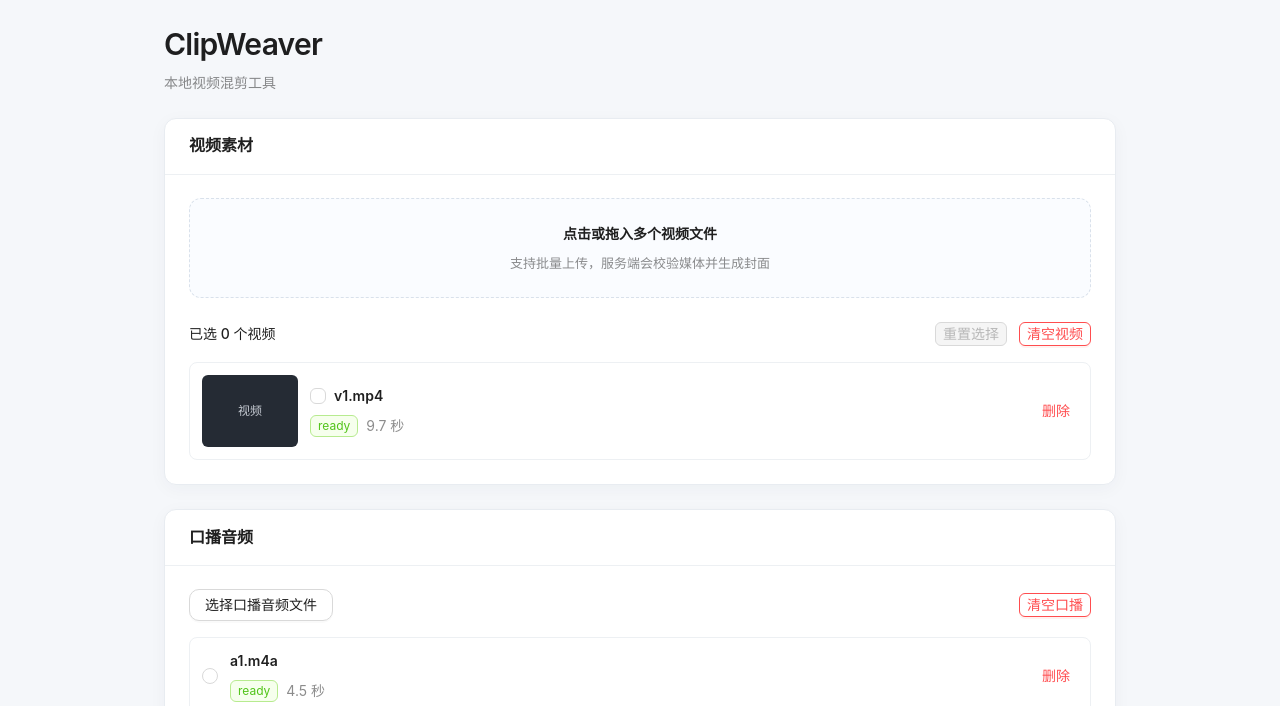
Test: deleting a selected video clears stale mix result and error
The image size is (1280, 706).
Click the checkbox named "选择视频 v1.mp4".
click(318, 396)  # box [310,385,326,407]
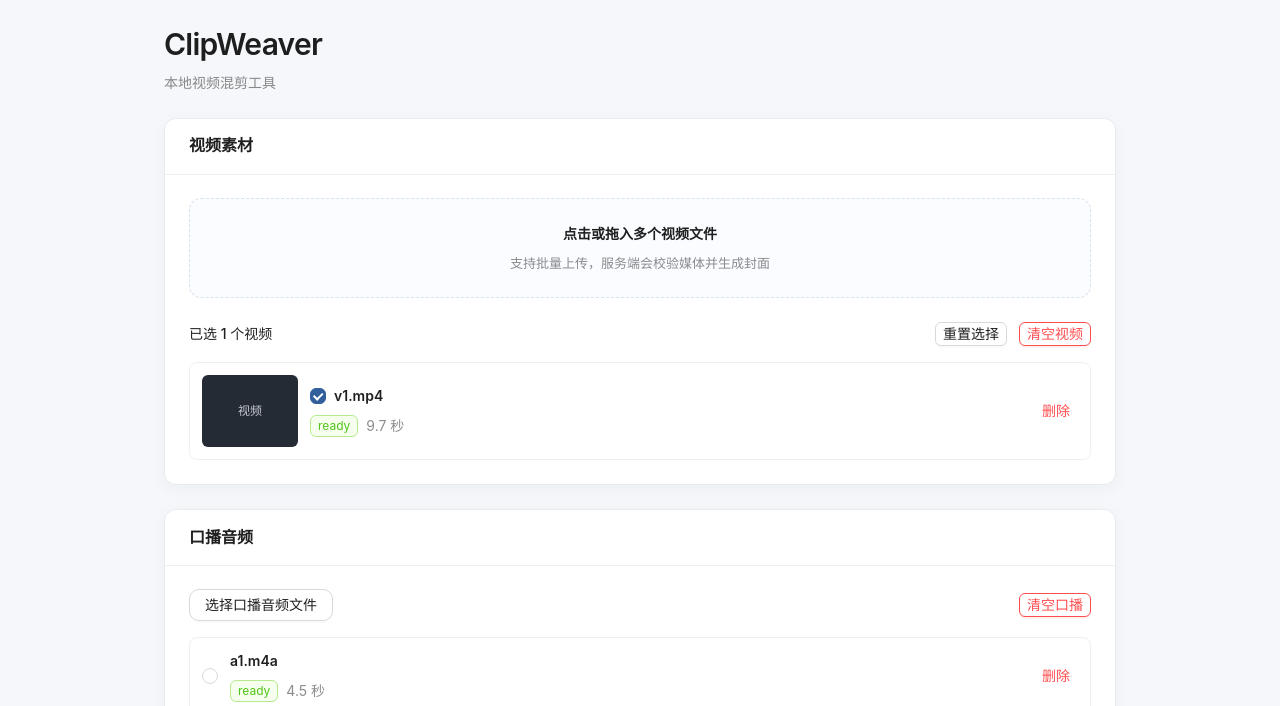
Click the radio button named "选择口播 a1.m4a".
click(210, 676)  # box [202,665,218,687]
(page scrolled)
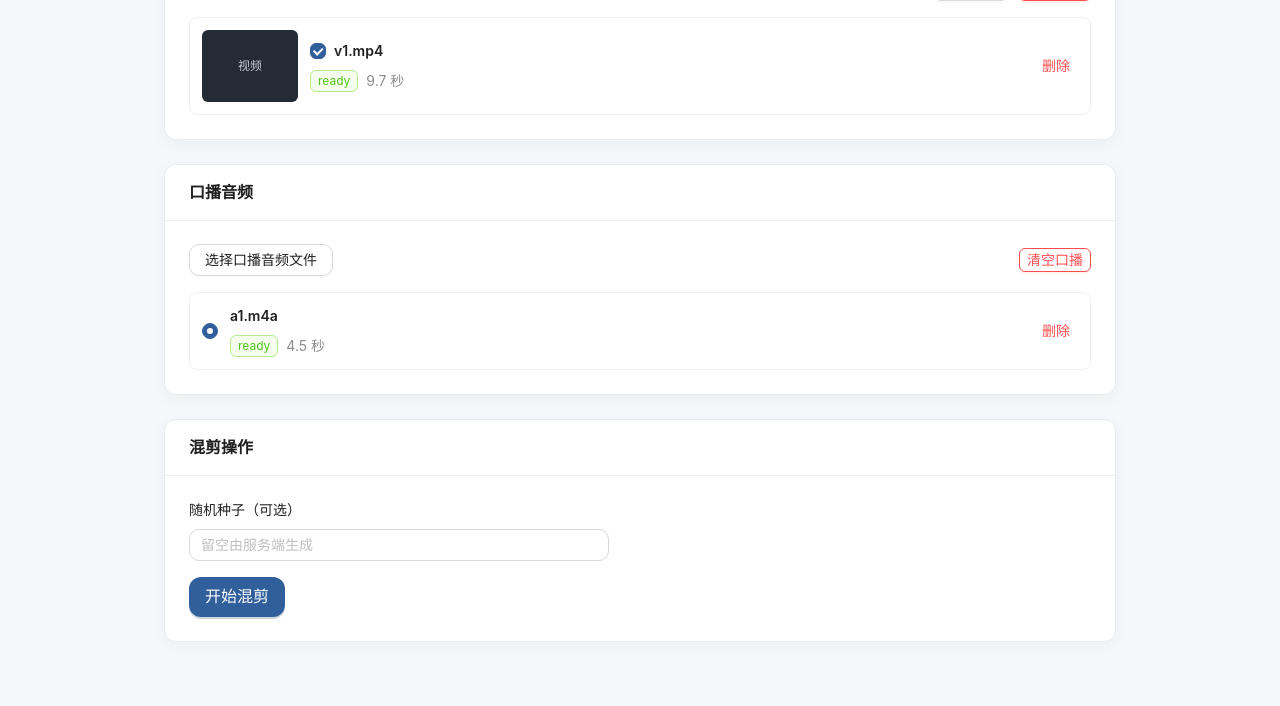
Expected: the button with aria-label "删除视频 v1.mp4" is shown, [1034,54,1078,78]
Click the button "开始混剪".
click(237, 597)  # box [189,577,285,617]
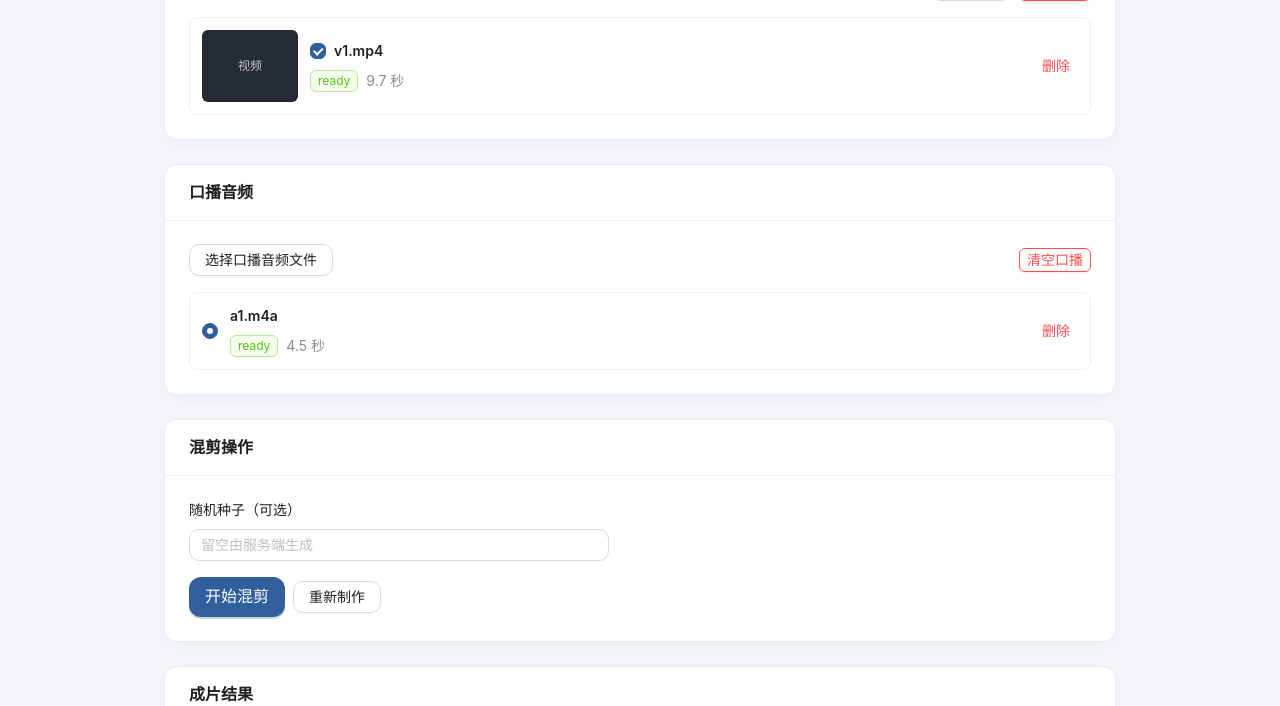
Click the button "重新制作".
click(337, 597)  # box [293,581,381,613]
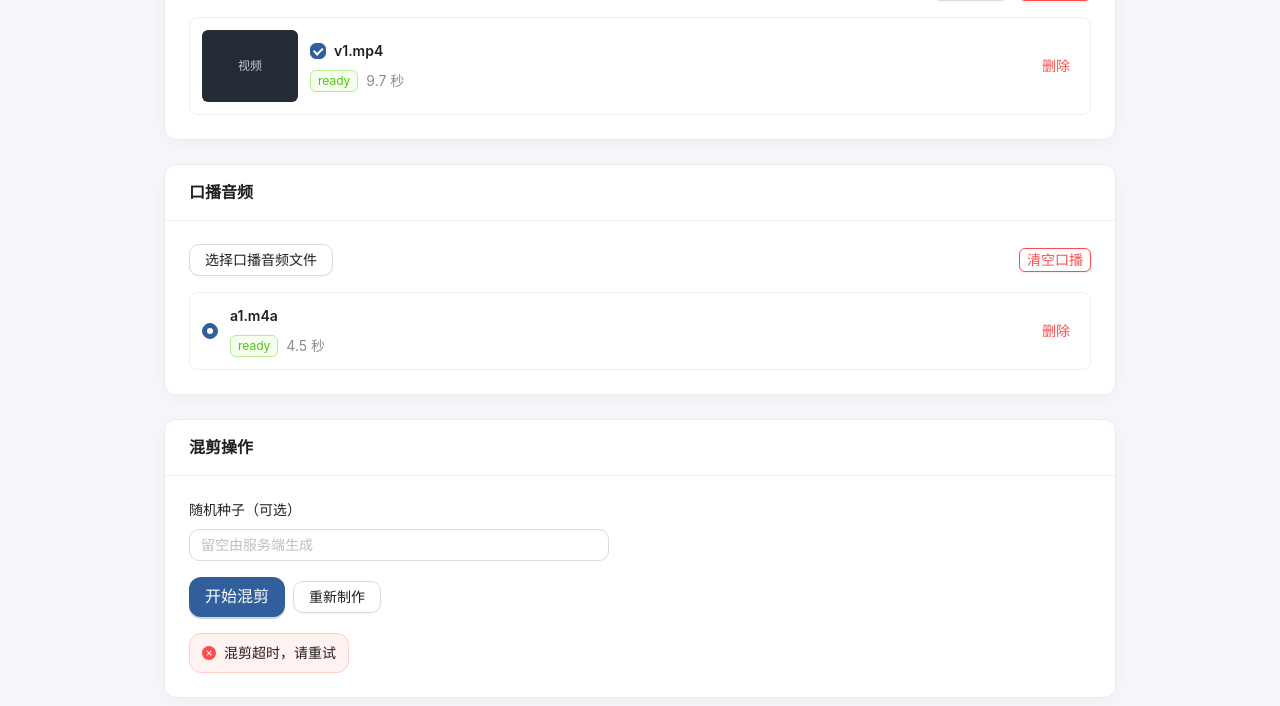
Expected: the text "混剪超时，请重试" is shown, [224,642,336,664]
Click the button with aria-label "删除视频 v1.mp4".
click(1056, 66)  # box [1034,54,1078,78]
(page scrolled)
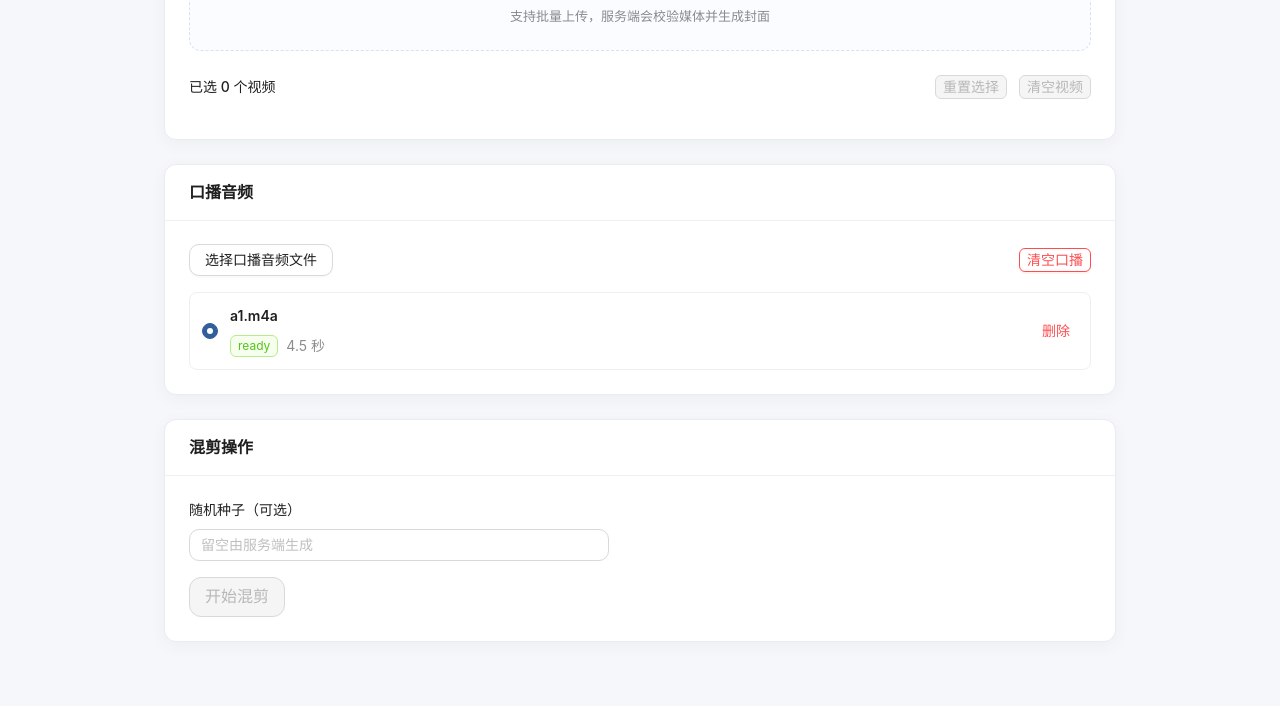
Expected: the text "已选 0 个视频" is shown, [189,76,276,98]
Expected: the text "混剪超时，请重试" is gone
Expected: the button "开始混剪" is disabled, [189,577,285,617]
